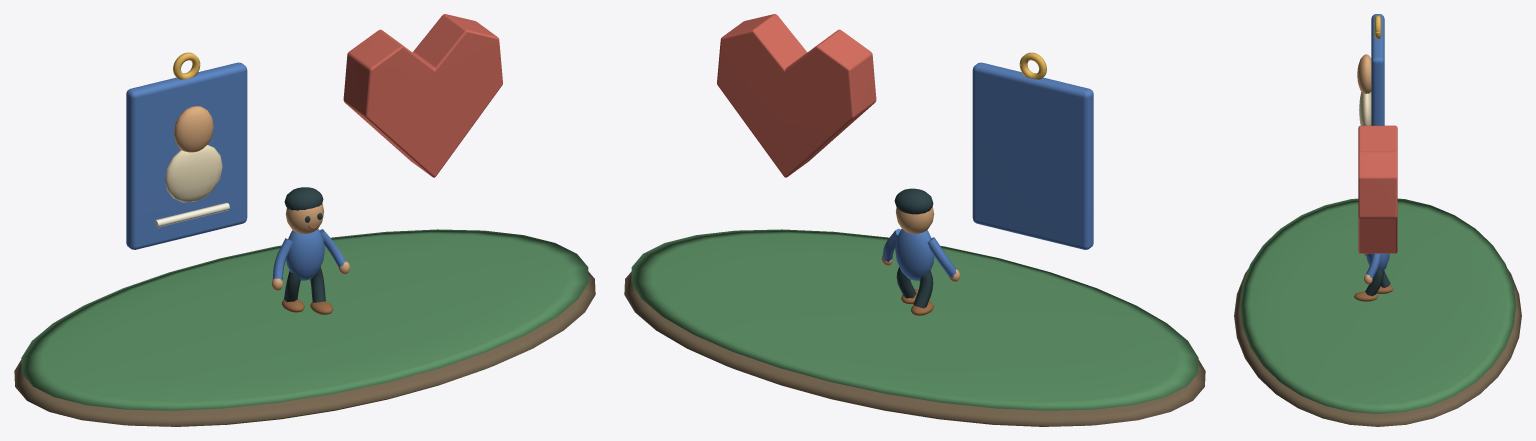
The model's file is complete-first-respectful-you.glb.
3 renders of one model, left to right at view 1: azimuth 30°, elevation 25°; view 2: azimuth 150°, elevation 25°; view 3: azimuth 270°, elevation 25°, orthographic. The views are drawn at different scales.
Visible parts, largest first — view 1: complete-first-respectful-you_surface_01, complete-first-respectful-you_surface_02, complete-first-respectful-you_surface_07, complete-first-respectful-you_surface_00, complete-first-respectful-you_surface_04, complete-first-respectful-you_surface_03, complete-first-respectful-you_surface_08, complete-first-respectful-you_surface_05; view 2: complete-first-respectful-you_surface_01, complete-first-respectful-you_surface_02, complete-first-respectful-you_surface_07, complete-first-respectful-you_surface_00, complete-first-respectful-you_surface_08, complete-first-respectful-you_surface_03; view 3: complete-first-respectful-you_surface_01, complete-first-respectful-you_surface_07, complete-first-respectful-you_surface_00, complete-first-respectful-you_surface_02, complete-first-respectful-you_surface_03, complete-first-respectful-you_surface_04, complete-first-respectful-you_surface_08, complete-first-respectful-you_surface_09.
Part boxes in pixels (<box>): complete-first-respectful-you_surface_01: <box>21,229,588,410</box>; complete-first-respectful-you_surface_02: <box>126,62,345,280</box>; complete-first-respectful-you_surface_07: <box>343,14,502,177</box>; complete-first-respectful-you_surface_00: <box>14,271,595,426</box>; complete-first-respectful-you_surface_04: <box>165,145,222,202</box>; complete-first-respectful-you_surface_03: <box>174,106,349,290</box>; complete-first-respectful-you_surface_08: <box>284,187,325,302</box>; complete-first-respectful-you_surface_05: <box>154,202,229,227</box>; complete-first-respectful-you_surface_01: <box>631,229,1198,410</box>; complete-first-respectful-you_surface_02: <box>882,62,1093,280</box>; complete-first-respectful-you_surface_07: <box>717,14,876,177</box>; complete-first-respectful-you_surface_00: <box>624,271,1205,426</box>; complete-first-respectful-you_surface_08: <box>894,188,933,308</box>; complete-first-respectful-you_surface_03: <box>881,206,959,282</box>; complete-first-respectful-you_surface_01: <box>1239,198,1516,413</box>; complete-first-respectful-you_surface_07: <box>1358,125,1397,253</box>; complete-first-respectful-you_surface_00: <box>1234,269,1521,426</box>; complete-first-respectful-you_surface_02: <box>1366,14,1389,279</box>; complete-first-respectful-you_surface_03: <box>1357,54,1372,284</box>; complete-first-respectful-you_surface_04: <box>1359,92,1371,125</box>; complete-first-respectful-you_surface_08: <box>1365,268,1390,296</box>; complete-first-respectful-you_surface_09: <box>1354,285,1393,301</box>.
Size of the model in its own units: 4.56 by 2.54 by 2.5.
